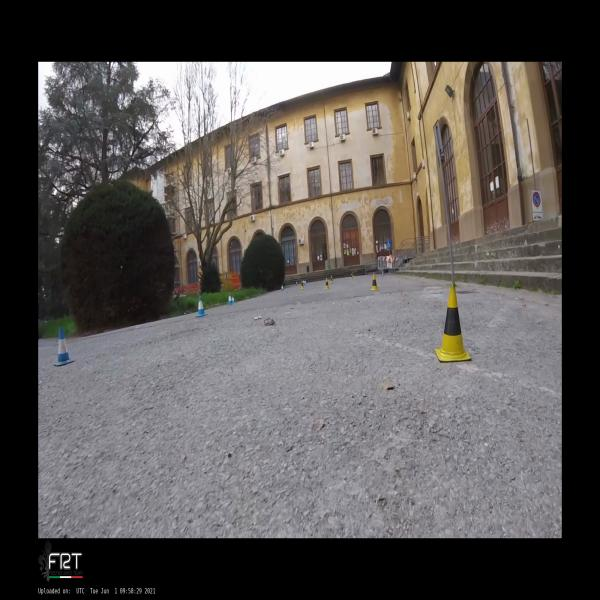blue_cone: (54, 327, 74, 367), (195, 296, 208, 317), (228, 293, 232, 305), (281, 284, 284, 290), (232, 296, 234, 304), (304, 280, 306, 285)
yellow_cone: (435, 284, 472, 362), (370, 273, 379, 291), (324, 278, 330, 290), (301, 280, 304, 290), (331, 275, 333, 284), (351, 273, 353, 280)
